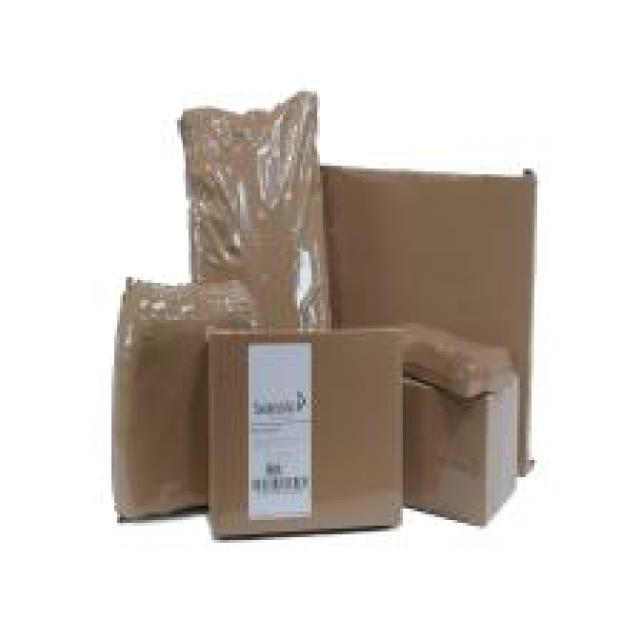box: (201, 326, 404, 542), (402, 363, 522, 529)
